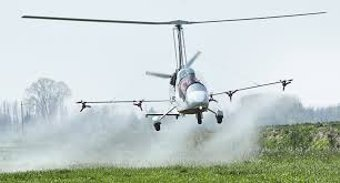Aeronef_de_service: (14, 9, 331, 134)
